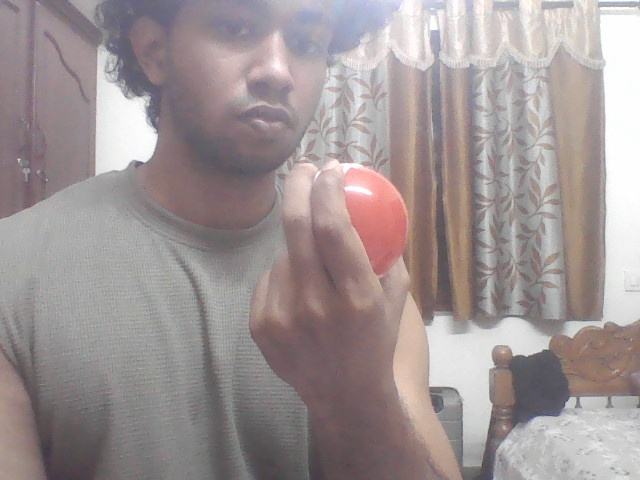cricket_ball: (315, 162, 412, 278)
